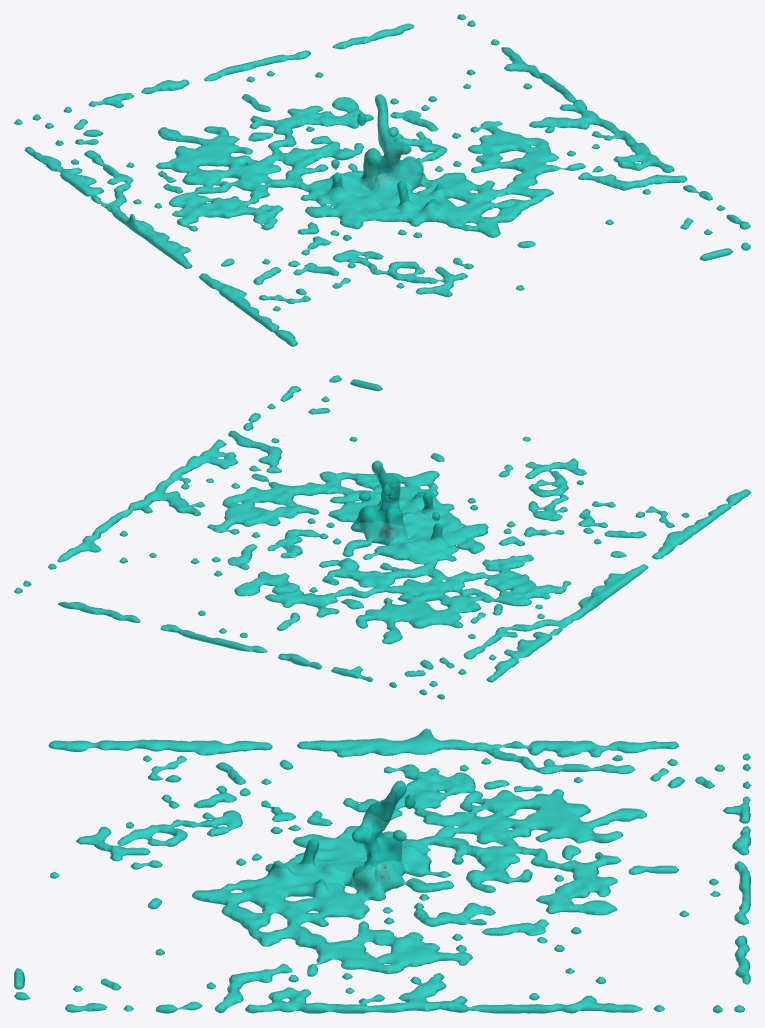
The picture shows the model from 3 angles, top to bottom: view 1: azimuth 30°, elevation 25°; view 2: azimuth 150°, elevation 25°; view 3: azimuth 270°, elevation 25°; orthographic projection. The views are drawn at different scales.
Parts seen in each view (by area): view 1: Liquid_Domain; view 2: Liquid_Domain; view 3: Liquid_Domain.
Boxes of the visible parts, x1,y1,x2,y2 form: Liquid_Domain: [14, 14, 750, 346]; Liquid_Domain: [14, 375, 750, 699]; Liquid_Domain: [14, 728, 750, 1013].
Bounding box in the file's own units: 12.44 × 2.21 × 14.41.
